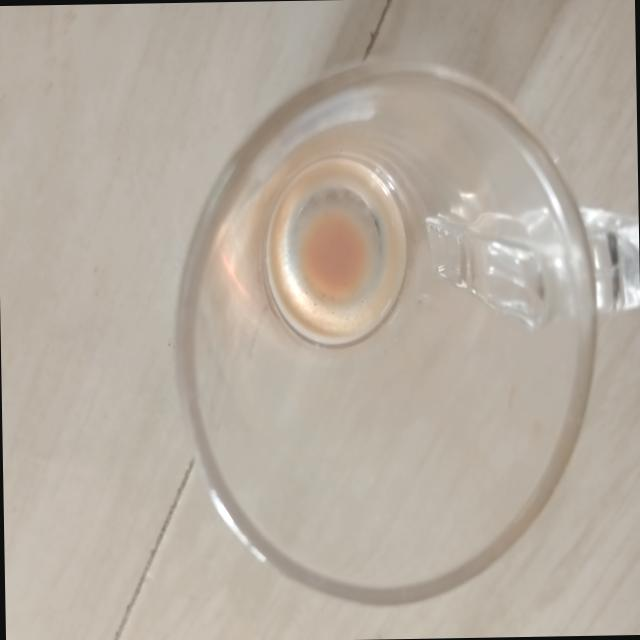glass-VX4N: (165, 47, 640, 615)
